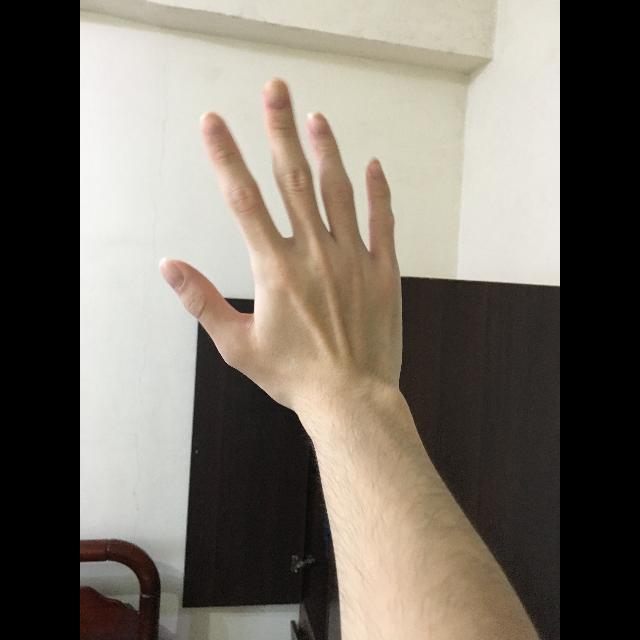bare_hand: (155, 74, 409, 409)
